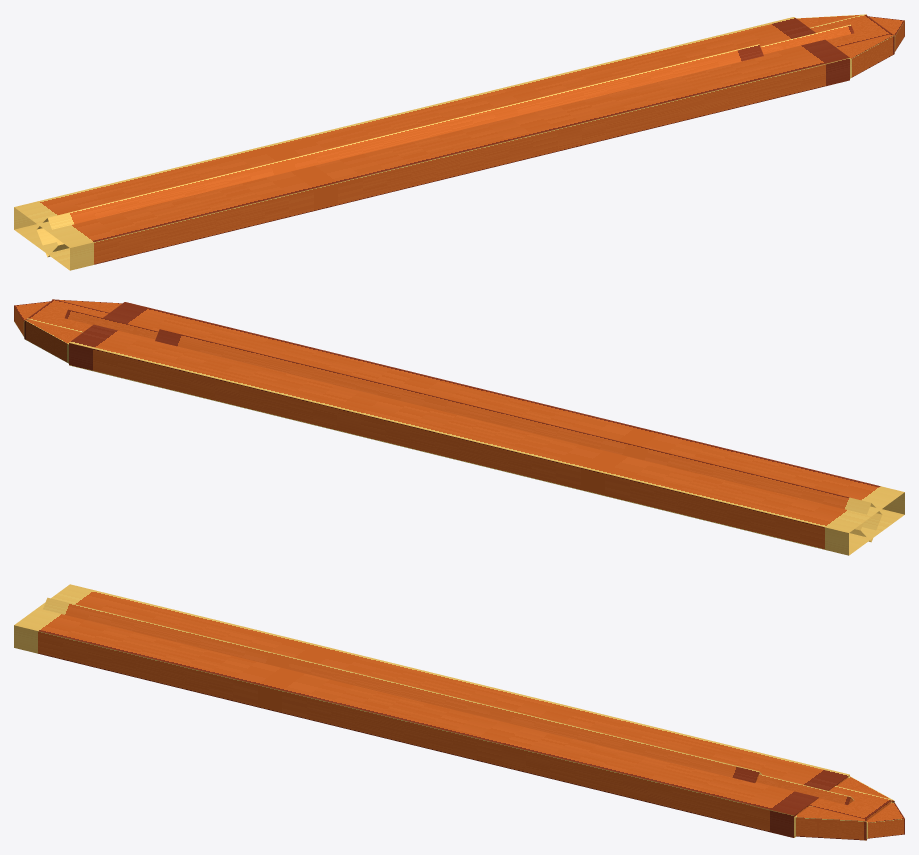
The model's file is bench_sword_1_hot.obj.
3 renders of one model, top to bottom at view 1: azimuth 30°, elevation 25°; view 2: azimuth 150°, elevation 25°; view 3: azimuth 330°, elevation 25°, orthographic.
Visible parts, largest first — view 1: geometry; view 2: geometry; view 3: geometry.
Part boxes in pixels (bbox=[...]): geometry: bbox=[14, 14, 904, 270]; geometry: bbox=[14, 299, 904, 555]; geometry: bbox=[14, 584, 904, 840].
Bounding box in the file's own units: 0.75 × 0.0328 × 0.0844.
